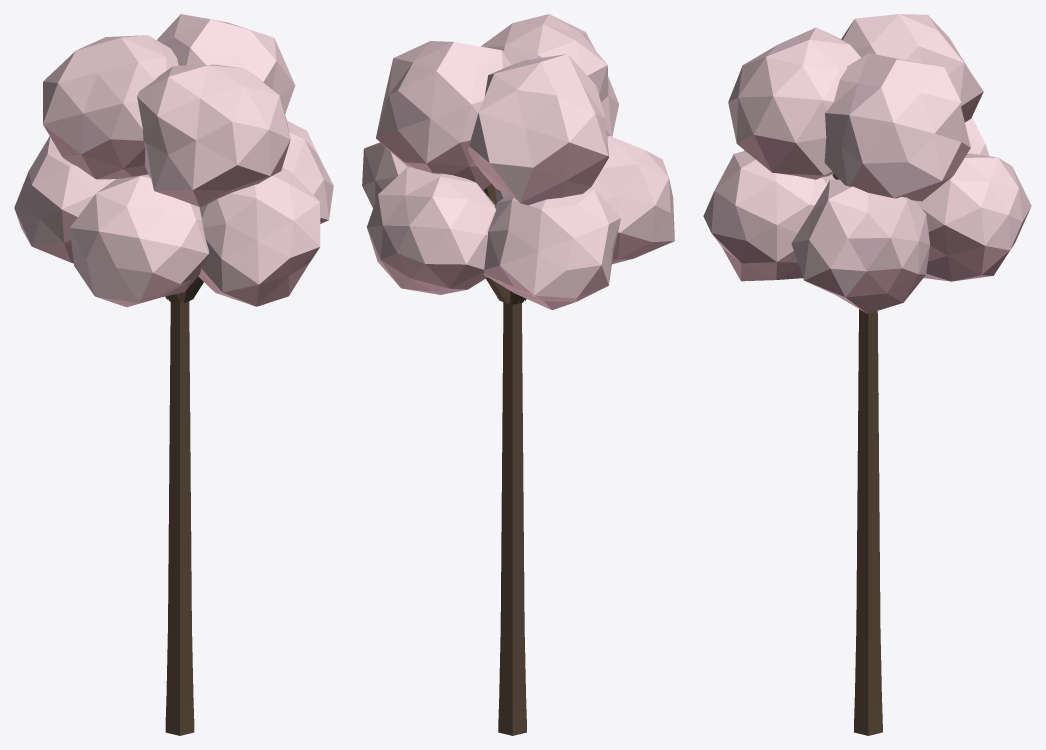
The model's file is SM_Street_Tree_Sakura_S_01.gltf.
The picture shows the model from 3 angles, left to right: view 1: azimuth 30°, elevation 25°; view 2: azimuth 150°, elevation 25°; view 3: azimuth 270°, elevation 25°; orthographic projection.
Visible parts, largest first — view 1: SM_Street_Tree_Sakura_S_01; view 2: SM_Street_Tree_Sakura_S_01; view 3: SM_Street_Tree_Sakura_S_01.
Part boxes in pixels (x1,y1,x2,y2): SM_Street_Tree_Sakura_S_01: [14, 14, 333, 735]; SM_Street_Tree_Sakura_S_01: [362, 14, 674, 735]; SM_Street_Tree_Sakura_S_01: [703, 14, 1031, 735].
Bounding box in the file's own units: 1.56 × 3.85 × 1.65.
1 material, 1 textured.
